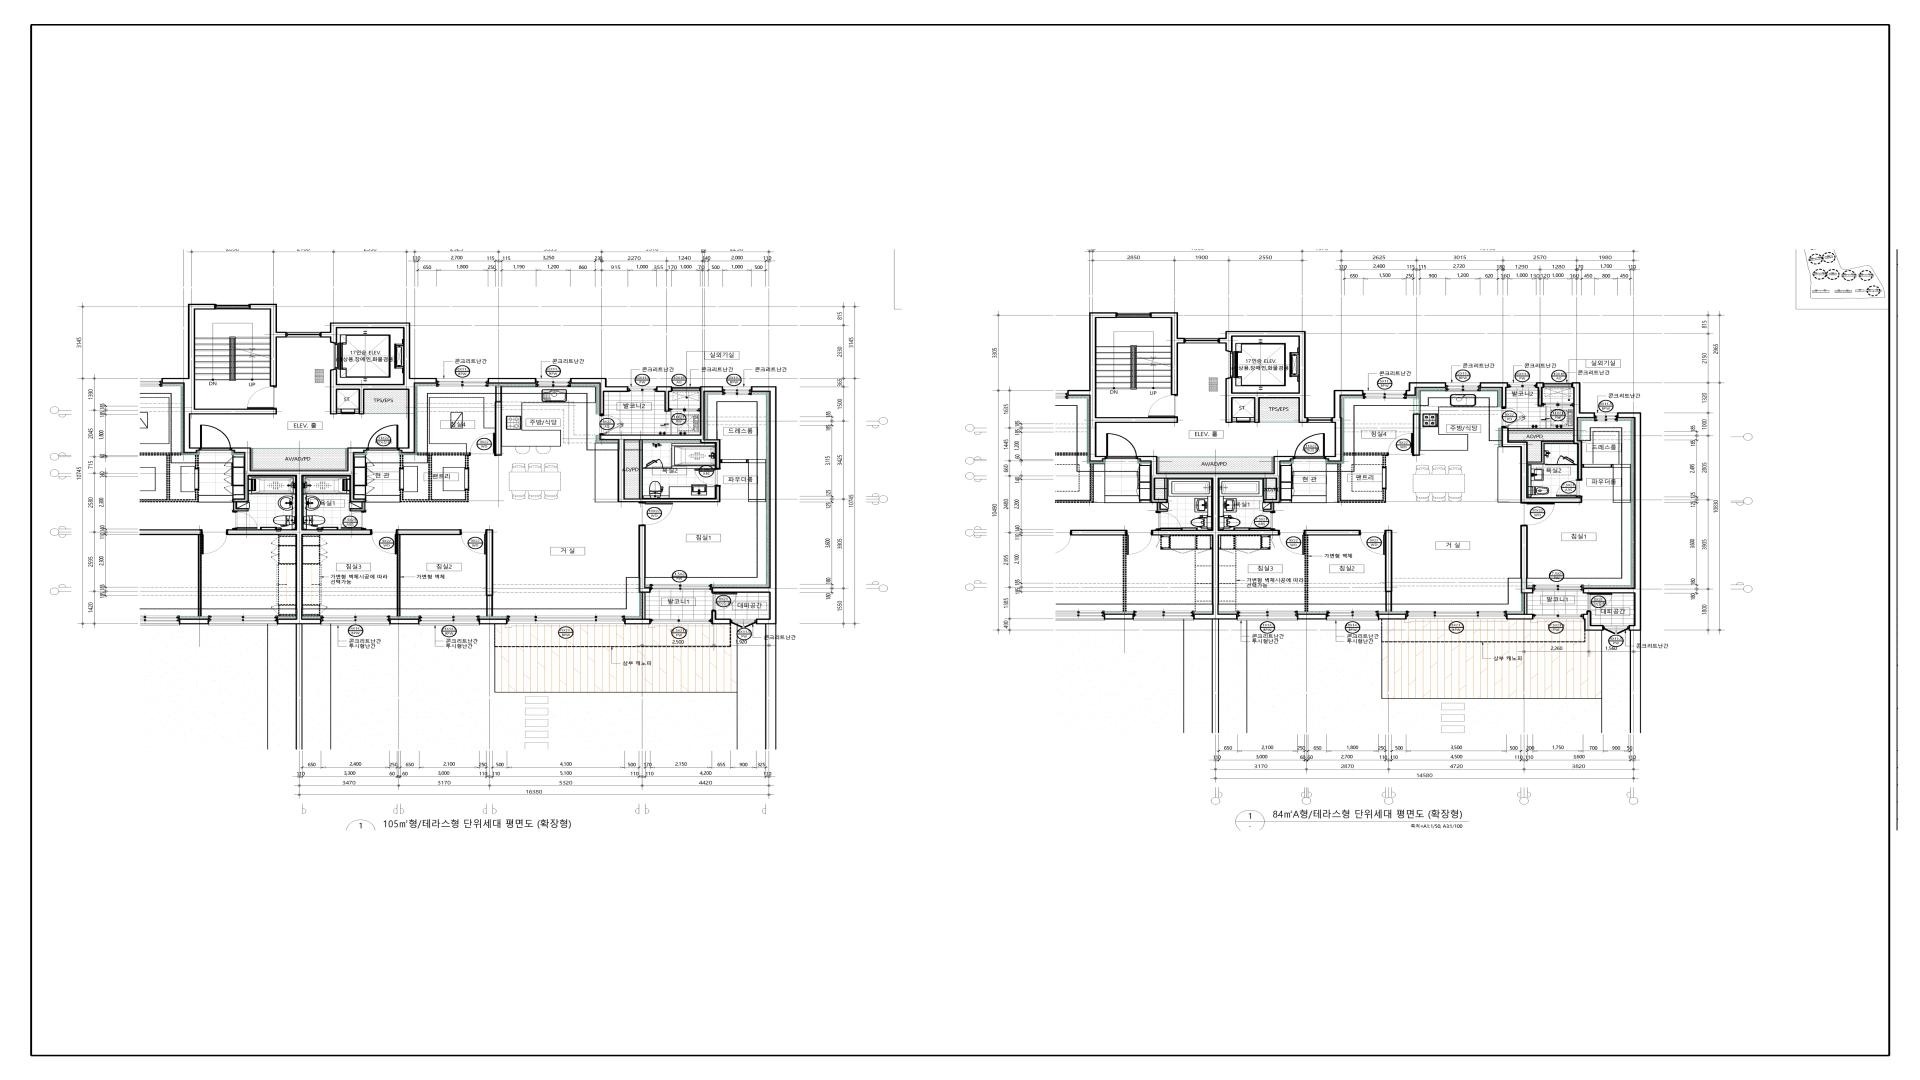door: (368, 424, 399, 453), (1294, 433, 1325, 461), (200, 425, 231, 453), (1106, 433, 1137, 459), (639, 502, 673, 525), (1520, 503, 1555, 525), (247, 386, 277, 409), (1148, 395, 1178, 417), (372, 529, 397, 555), (1279, 530, 1304, 555), (1360, 530, 1385, 555), (461, 529, 486, 554), (1127, 530, 1151, 555), (1388, 433, 1413, 456), (470, 433, 495, 454), (599, 415, 624, 435), (712, 593, 738, 611), (1556, 480, 1583, 497), (1250, 512, 1275, 530), (1587, 593, 1612, 611), (340, 512, 366, 529), (1502, 409, 1526, 427), (1156, 512, 1181, 529), (695, 469, 721, 485), (1533, 584, 1583, 591), (1604, 626, 1629, 635), (731, 619, 756, 628), (1557, 455, 1577, 465), (643, 459, 663, 469), (669, 408, 700, 412), (1543, 403, 1573, 407)
wall: (1137, 456, 1294, 620), (227, 447, 372, 624), (161, 304, 277, 453), (1067, 312, 1178, 462), (712, 386, 777, 624), (321, 322, 437, 453), (600, 386, 723, 502), (1583, 412, 1641, 631), (1219, 331, 1308, 423), (1501, 427, 1582, 503), (250, 304, 286, 386), (1150, 312, 1185, 395), (1325, 390, 1364, 462), (1572, 382, 1595, 480), (570, 378, 628, 415), (1337, 463, 1386, 503), (1528, 441, 1573, 464), (1520, 525, 1534, 593), (417, 452, 470, 468), (400, 490, 469, 502), (1480, 382, 1508, 409), (639, 525, 650, 593), (1385, 530, 1393, 612), (1343, 452, 1388, 466), (486, 529, 493, 617), (1406, 382, 1447, 396), (495, 386, 502, 456), (1583, 611, 1604, 631), (656, 386, 672, 412), (397, 529, 461, 535), (1070, 530, 1128, 536), (1304, 530, 1360, 536), (397, 535, 401, 617), (1304, 535, 1308, 612), (1413, 413, 1420, 456), (488, 378, 537, 384), (711, 611, 731, 624), (639, 440, 643, 498), (1536, 382, 1544, 407), (1509, 428, 1573, 431), (1297, 614, 1327, 620), (1104, 614, 1134, 620), (1378, 614, 1407, 620), (428, 456, 432, 499), (1507, 614, 1534, 620), (179, 619, 209, 624), (390, 619, 419, 624), (350, 502, 365, 511), (480, 619, 507, 624), (624, 619, 651, 624), (1382, 466, 1387, 490), (399, 468, 404, 490), (1263, 503, 1274, 512), (465, 468, 469, 490), (1236, 417, 1250, 423), (1524, 593, 1528, 614), (1263, 479, 1267, 499), (400, 455, 404, 468), (1250, 417, 1254, 422), (337, 409, 341, 414), (355, 409, 359, 414), (1233, 417, 1236, 422), (1545, 464, 1557, 465), (663, 468, 672, 469)
window: (507, 616, 624, 622), (1407, 611, 1507, 617), (321, 616, 390, 622), (650, 584, 712, 590), (419, 616, 480, 622), (1134, 611, 1194, 617), (1237, 611, 1297, 617), (437, 381, 488, 387), (1327, 611, 1378, 617), (1363, 393, 1406, 399), (1237, 617, 1298, 621), (651, 619, 711, 623), (507, 622, 624, 624), (1326, 617, 1379, 621), (321, 622, 390, 625), (1117, 312, 1151, 318), (1446, 385, 1480, 391), (1407, 617, 1507, 619), (1533, 614, 1583, 618), (537, 381, 570, 387), (419, 622, 480, 625), (286, 332, 321, 337), (723, 389, 752, 395), (1185, 338, 1219, 343), (216, 304, 250, 309), (1308, 417, 1332, 423), (1544, 383, 1572, 388), (1595, 415, 1617, 421), (1364, 390, 1406, 393), (628, 388, 656, 392), (672, 387, 700, 391), (1508, 384, 1536, 388), (437, 379, 488, 381), (1446, 383, 1480, 385), (537, 379, 570, 381), (651, 623, 711, 624), (723, 387, 752, 389), (1534, 618, 1583, 619), (1595, 413, 1617, 415), (628, 387, 656, 388), (1508, 383, 1536, 384)
